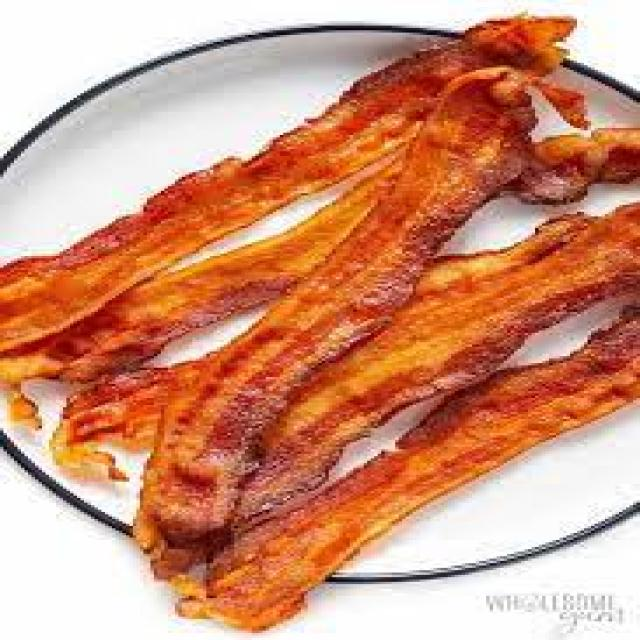Bacon: (135, 19, 566, 577), (0, 17, 573, 351), (178, 315, 636, 629), (235, 205, 638, 531), (0, 167, 396, 382), (51, 366, 179, 481)
